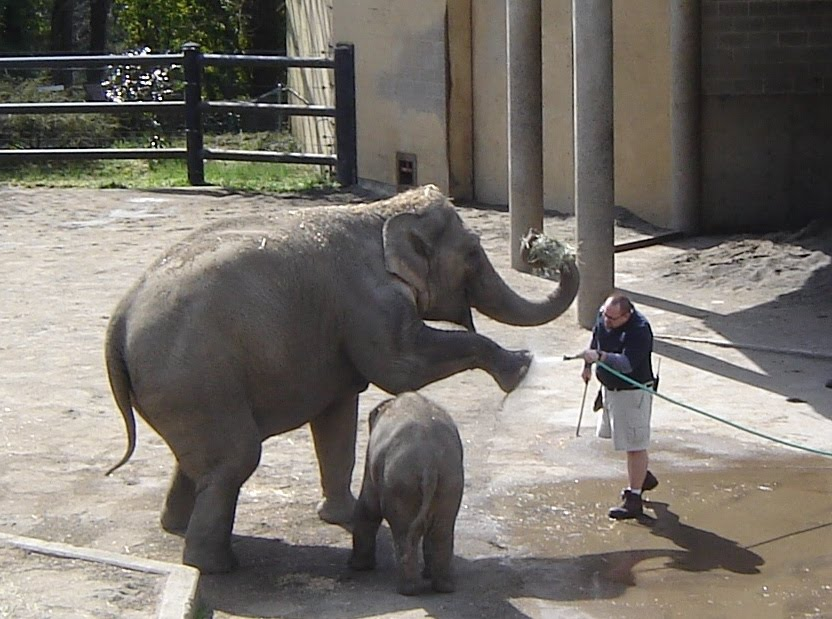Indian Elephant: (73, 132, 579, 443), (339, 386, 494, 607)
